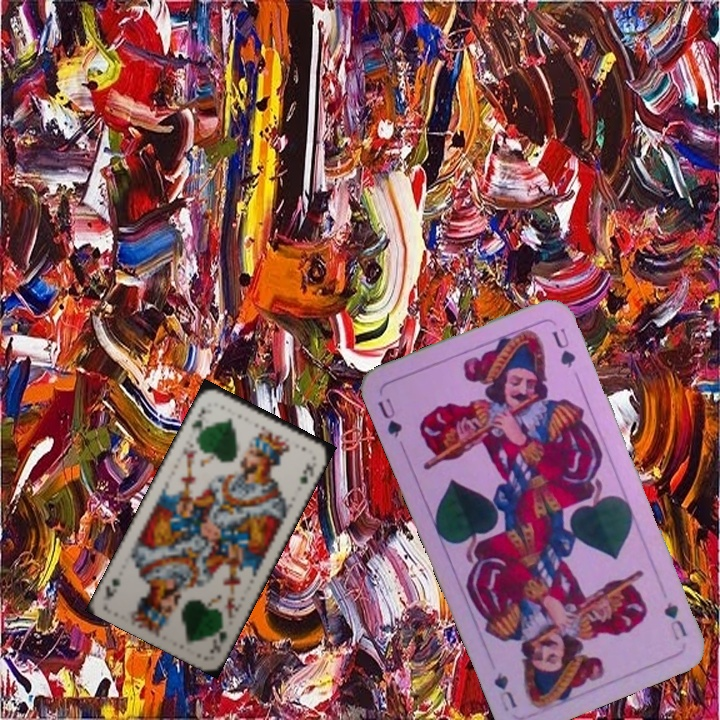GK: (206, 618, 230, 657), (187, 404, 208, 438)
GU: (373, 394, 405, 441), (659, 597, 689, 643)
